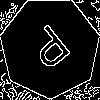P: (25, 22, 79, 79)
